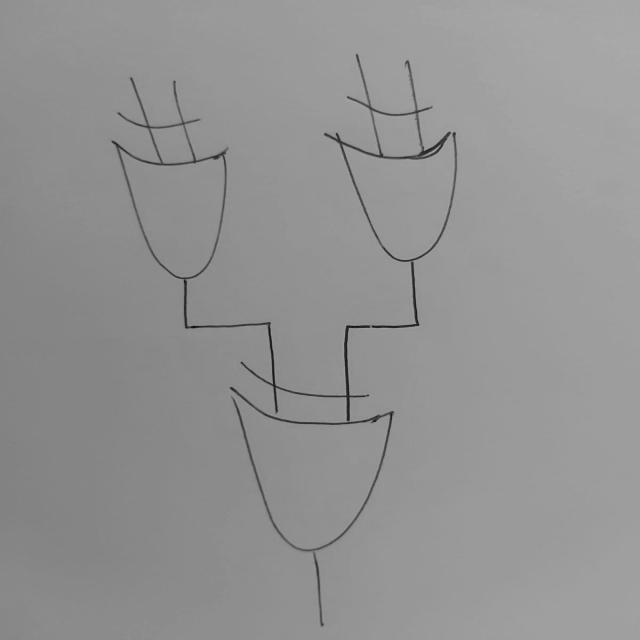XOR: (212, 347, 438, 553), (311, 85, 527, 274), (84, 103, 279, 299)
